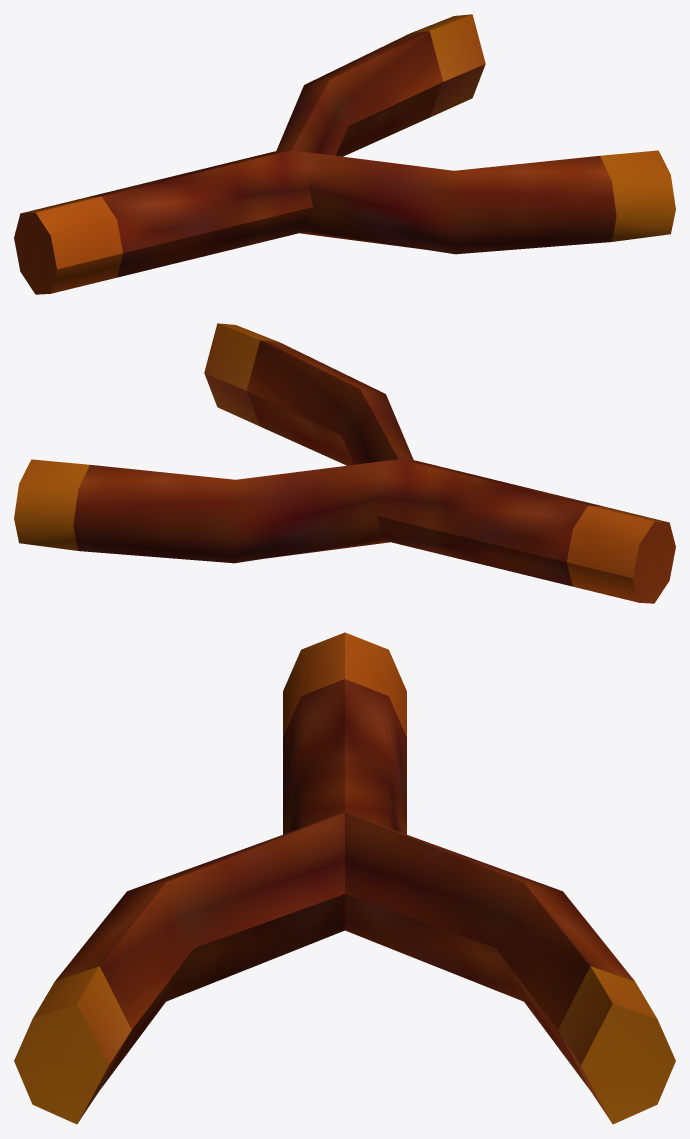
The model's file is weapon-slingshot-temp.glb.
3 renders of one model, top to bottom at view 1: azimuth 30°, elevation 25°; view 2: azimuth 150°, elevation 25°; view 3: azimuth 270°, elevation 25°, orthographic. The views are drawn at different scales.
Visible parts, largest first — view 1: slingshot_hatlas_0; view 2: slingshot_hatlas_0; view 3: slingshot_hatlas_0.
Boxes of the visible parts, bbox=[...] form: slingshot_hatlas_0: bbox=[14, 14, 675, 294]; slingshot_hatlas_0: bbox=[14, 323, 675, 603]; slingshot_hatlas_0: bbox=[14, 632, 675, 1124].
Bounding box in the file's own units: 0.5993 × 0.0932 × 0.4483.
Materials: 1 (1 with a texture image).
